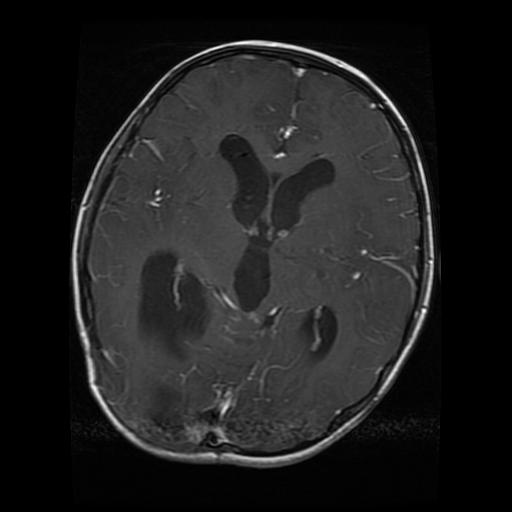Gliomia_tumour: (129, 251, 212, 369)
